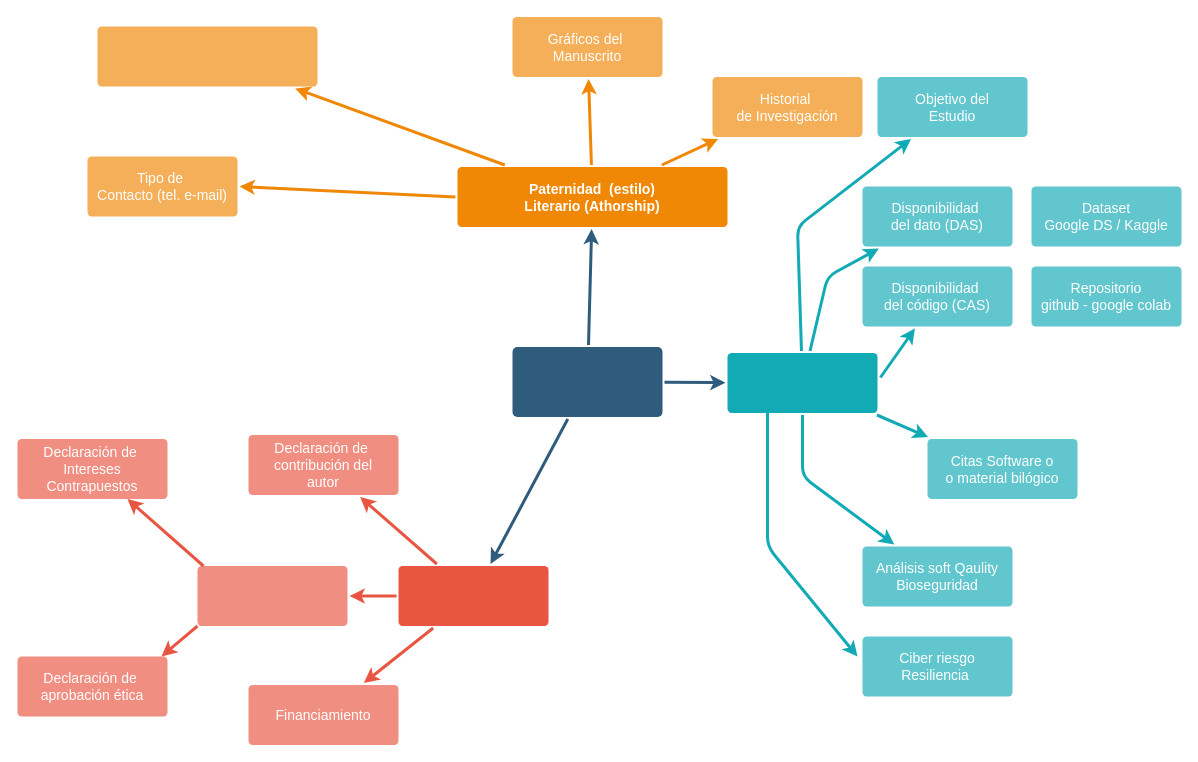
Image size: 1198x762. Some labels were removed from this diagram. Here are the shapes that lost their labels. From the top down, the centre of each, then its label:
At (x=207, y=56): "Organización Identificación y Referencias Bibliográficas".
At (x=587, y=381): "Grado H & Plagiarismo Reputación".
At (x=802, y=382): "Reproducibilidad".
At (x=272, y=596): "Ética".
At (x=473, y=596): "Transparencia".
